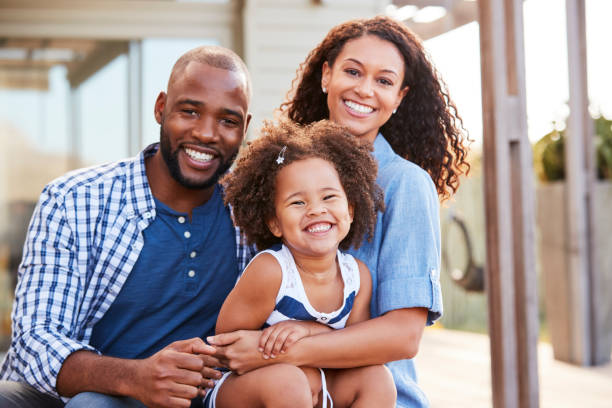without mask: (145, 45, 255, 194), (311, 29, 415, 136), (258, 152, 362, 259)
